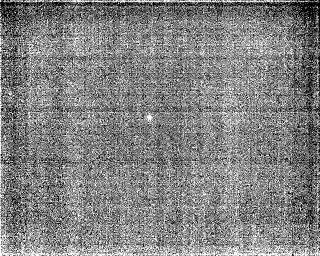BIRD: (145, 111, 155, 123)
